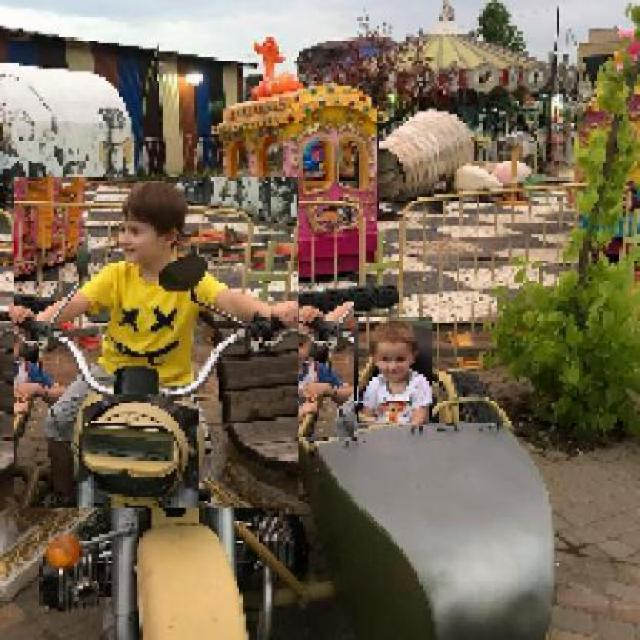child: (12, 177, 298, 509), (246, 302, 354, 438), (357, 317, 432, 426)
